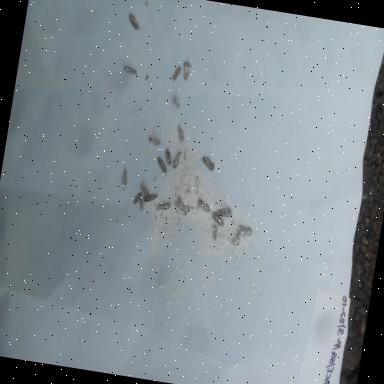pbw: (170, 193, 194, 216), (195, 153, 217, 173), (125, 10, 143, 34), (118, 162, 132, 192), (154, 196, 174, 216), (180, 56, 194, 83), (170, 147, 184, 173), (119, 62, 141, 78), (174, 122, 188, 144), (167, 90, 183, 109), (146, 134, 164, 150), (209, 211, 226, 227), (195, 196, 211, 213), (170, 62, 184, 81), (207, 224, 220, 244), (136, 180, 151, 197), (161, 146, 173, 166), (153, 156, 168, 172), (142, 190, 158, 204), (215, 204, 231, 218), (136, 195, 146, 213), (132, 190, 143, 206)
